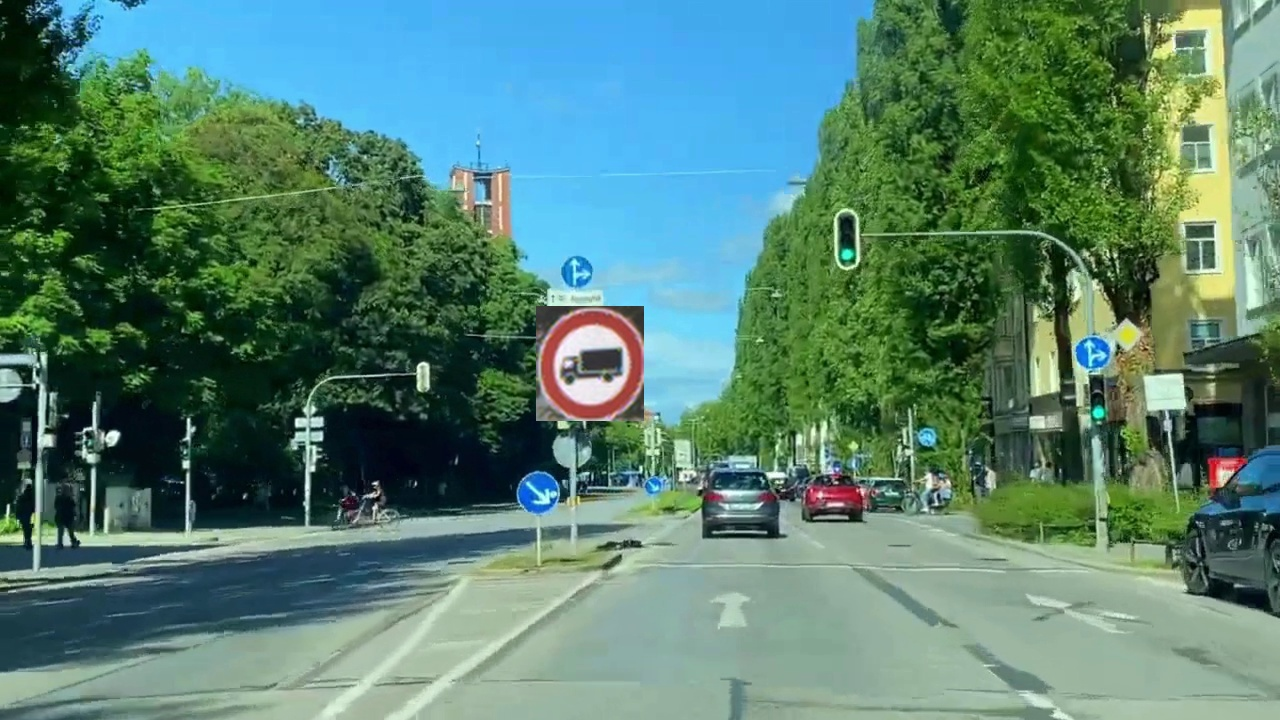Veh >3.5t prohib: (536, 306, 644, 421)
